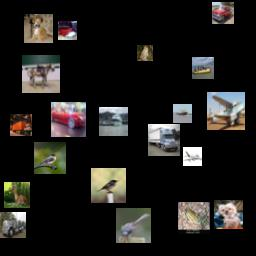airplane: (207, 92, 245, 130), (183, 147, 202, 166)
automobile: (51, 102, 86, 137), (212, 2, 234, 24), (58, 21, 77, 40)
bird: (116, 208, 151, 243), (91, 168, 126, 203), (34, 142, 66, 174)
deer: (4, 182, 30, 208)
dog: (24, 14, 53, 43), (214, 200, 243, 229)
frog: (178, 202, 210, 234), (137, 45, 153, 61)
ship: (99, 107, 128, 136), (192, 57, 214, 79), (173, 104, 192, 123)
truck: (148, 124, 180, 156), (0, 212, 26, 238), (10, 114, 32, 136)
